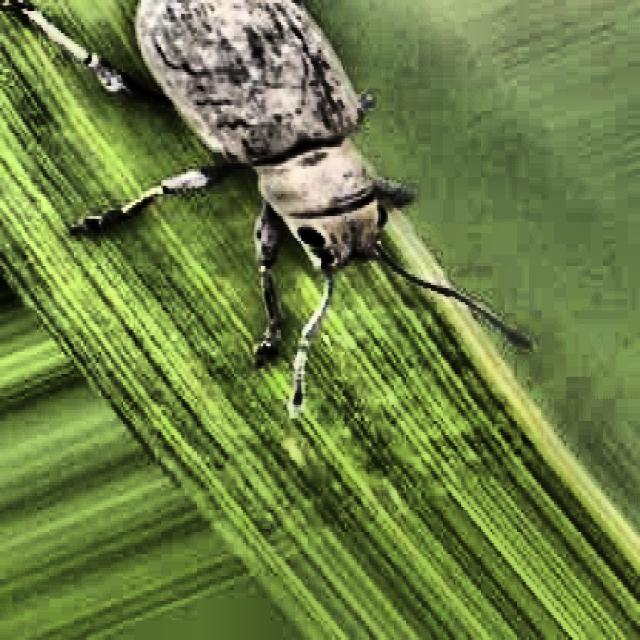Stink bug: (92, 0, 531, 398)
